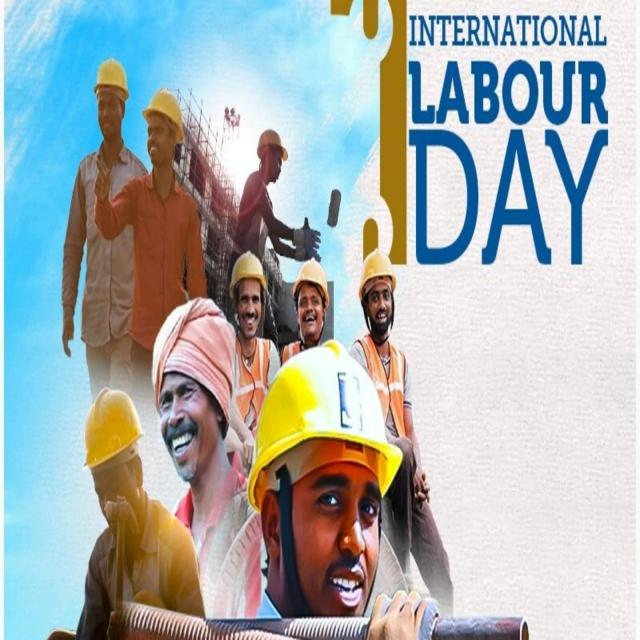Reflective-Jacket: (129, 174, 205, 348)
Safety-Helmet: (245, 340, 406, 492), (80, 386, 143, 470), (141, 82, 186, 136), (91, 52, 131, 100), (357, 246, 398, 292), (293, 254, 329, 298), (229, 249, 268, 289), (255, 123, 289, 159)
